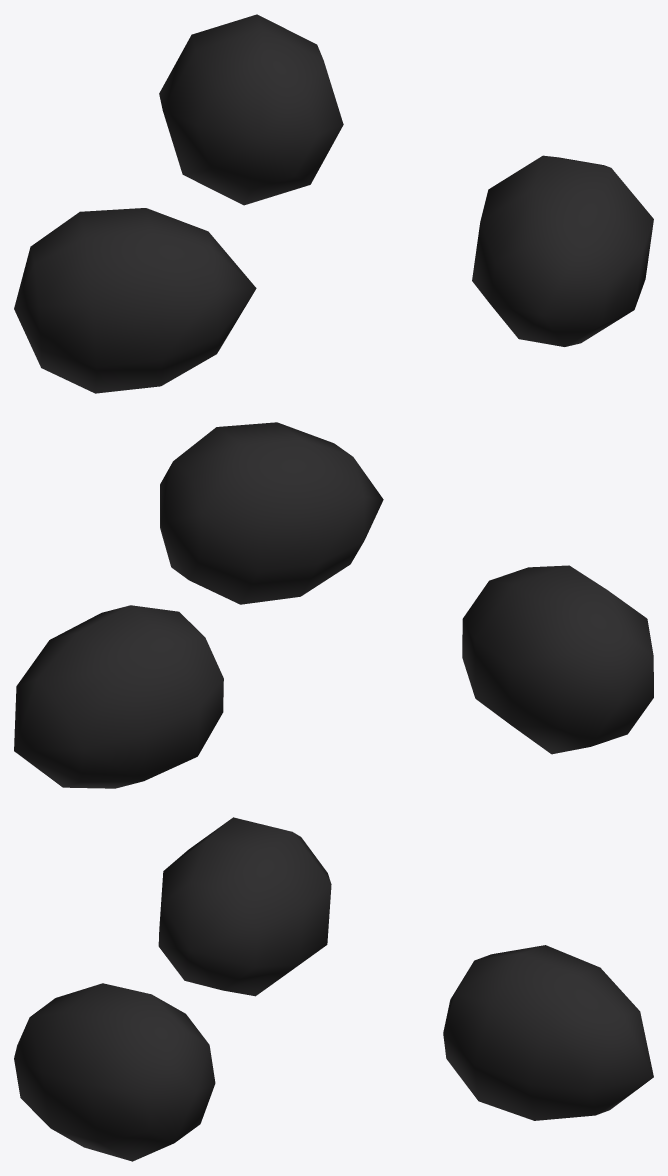
Rendered from banana_seed.glb.
3 views of the same model, one above another, from view 1: azimuth 30°, elevation 25°; view 2: azimuth 150°, elevation 25°; view 3: azimuth 270°, elevation 25° (orthographic). The views are drawn at different scales.
Visible parts, largest first — view 1: SM_Banana_Seed2; view 2: SM_Banana_Seed2; view 3: SM_Banana_Seed2.
Boxes of the visible parts, x1,y1,x2,y2 form: SM_Banana_Seed2: [14, 14, 653, 393]; SM_Banana_Seed2: [14, 422, 653, 788]; SM_Banana_Seed2: [14, 817, 653, 1161].
Size of the model in its own units: 0.2489 by 0.0744 by 0.2683.
Materials: 1 (1 with a texture image).
